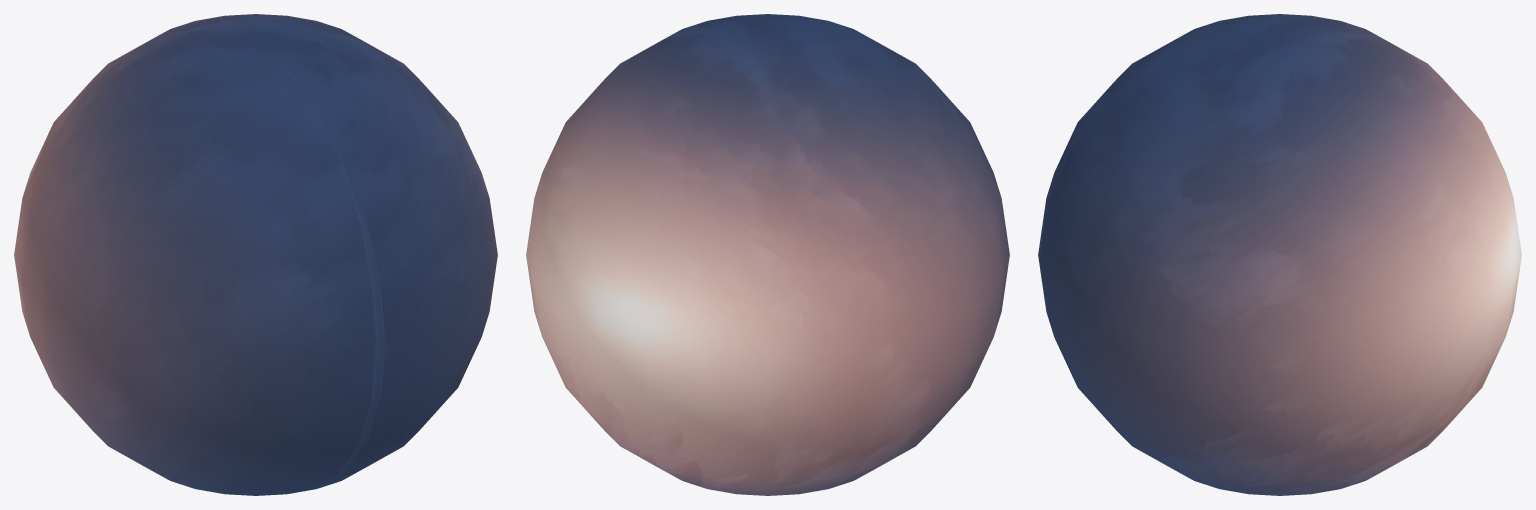
3 views of the same model, side by side, from view 1: azimuth 30°, elevation 25°; view 2: azimuth 150°, elevation 25°; view 3: azimuth 270°, elevation 25° (orthographic).
Parts seen in each view (by area): view 1: Sky; view 2: Sky; view 3: Sky.
Part boxes in pixels (x1,y1,x2,y2): Sky: (14, 14, 497, 495); Sky: (526, 14, 1009, 495); Sky: (1038, 14, 1521, 495).
Bounding box in the file's own units: 12.02 × 12.02 × 12.02.
5 materials, 5 textured.
